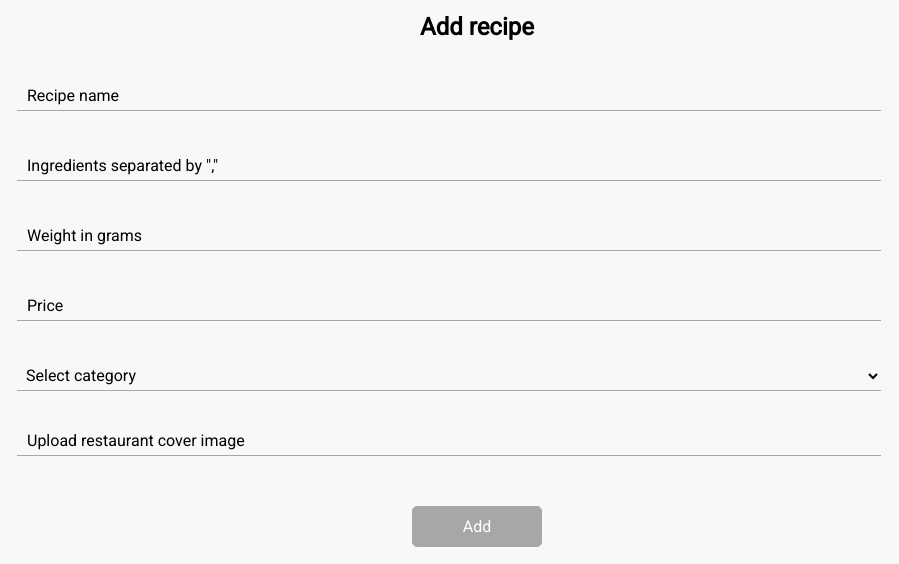
Test: Add recipe modal › should show upload image error
This screenshot has width=899, height=564.
Type "recipe name" into the field with test id "name" at x=449, y=96, box [17, 81, 881, 111]
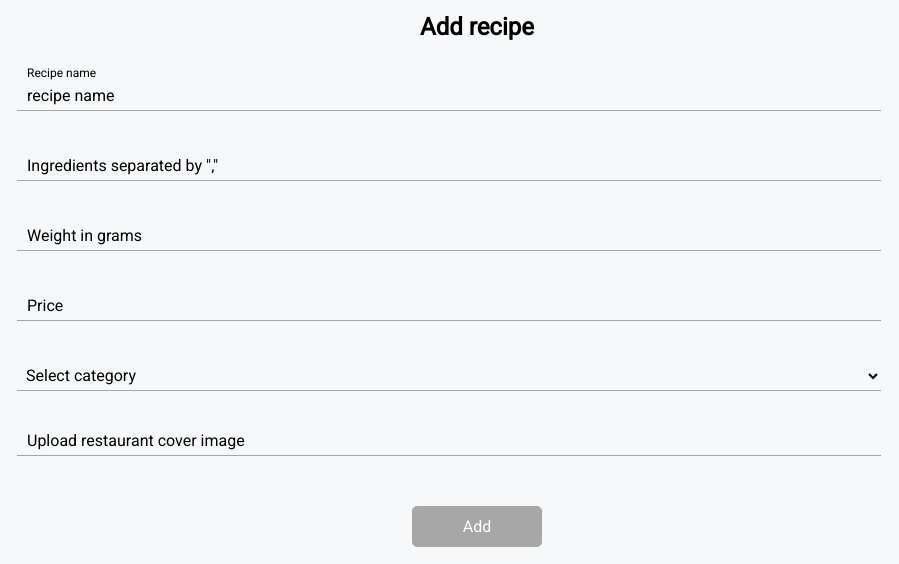
Type "a,b,c" into the field with test id "ingredients" at x=449, y=166, box [17, 151, 881, 181]
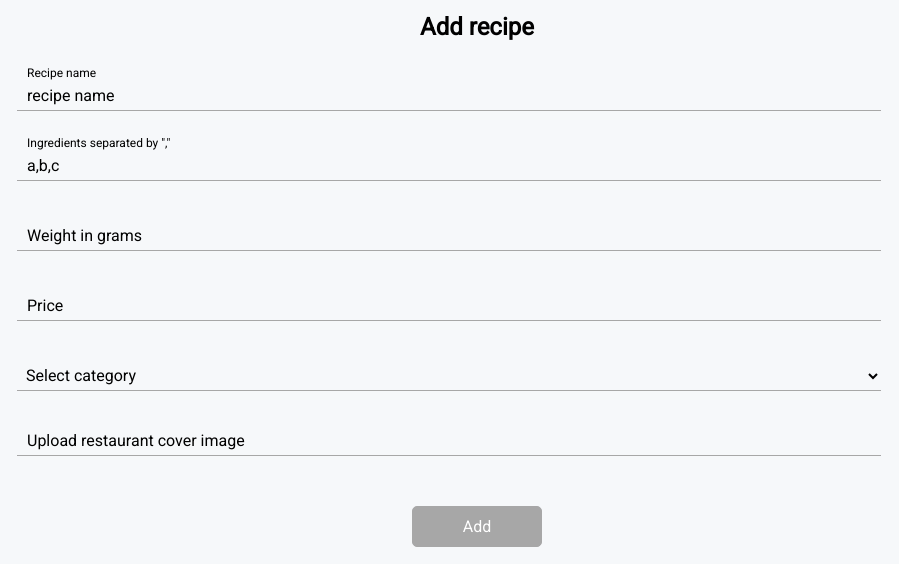
Type "299" into the number field with test id "weight" at x=449, y=236, box [17, 221, 881, 251]
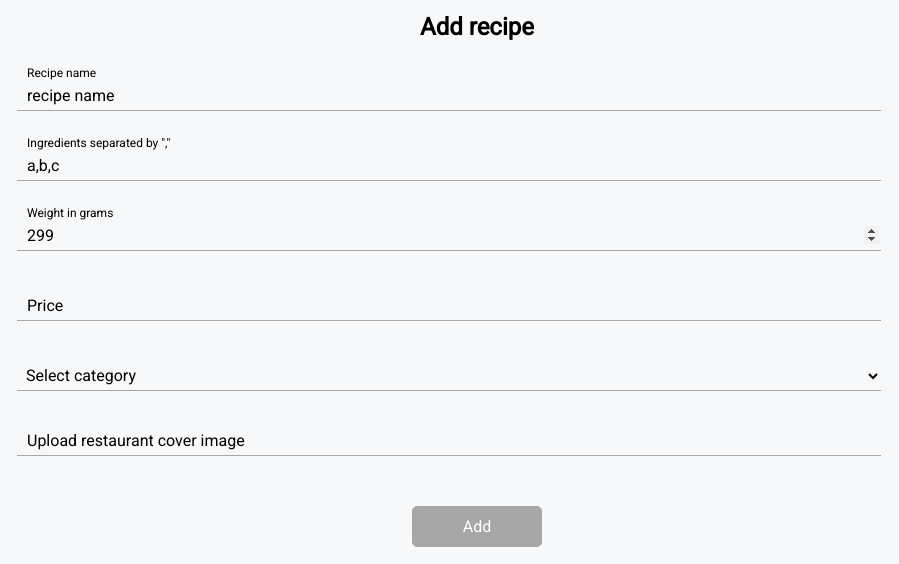
Type "3.99" into the number field with test id "price" at x=449, y=306, box [17, 291, 881, 321]
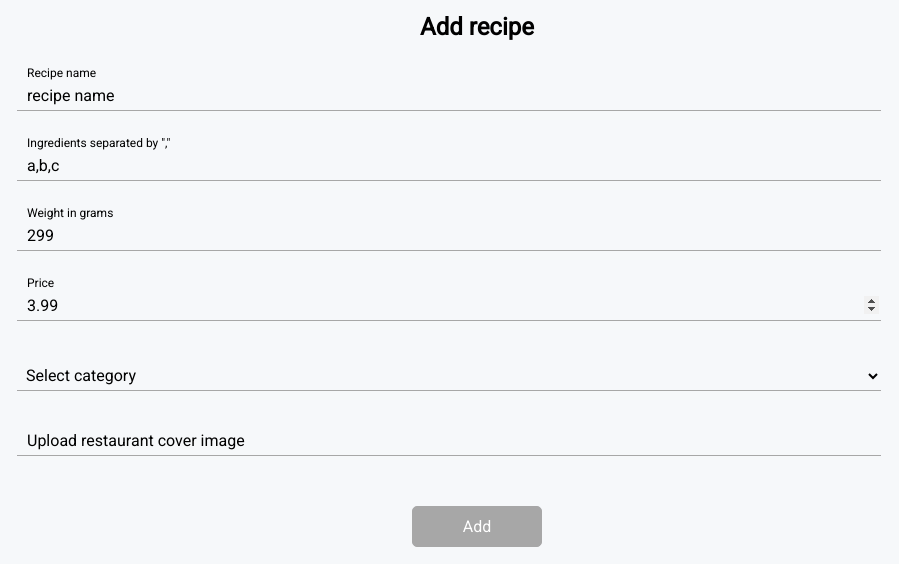
Select "category" in the dropdown with test id "category" at x=449, y=376, box [17, 361, 881, 391]
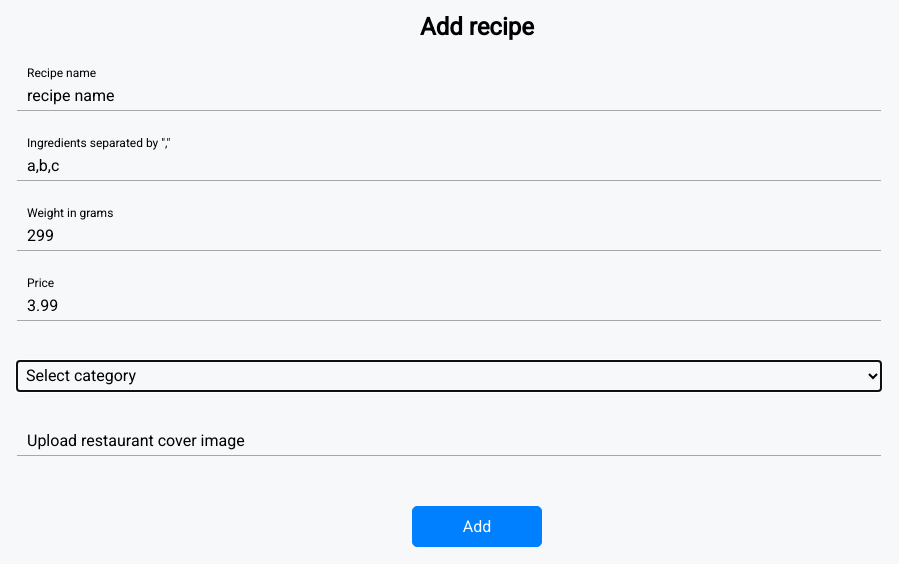
Click the button "Add" at x=477, y=526, box [412, 506, 542, 547]
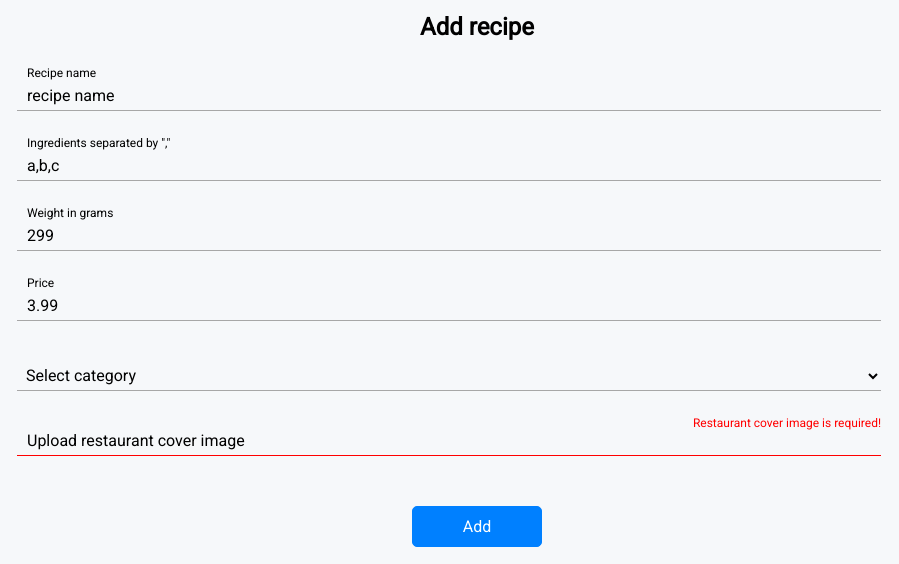
expect the text "Restaurant cover image is required!" is shown: met, box [693, 416, 881, 430]
